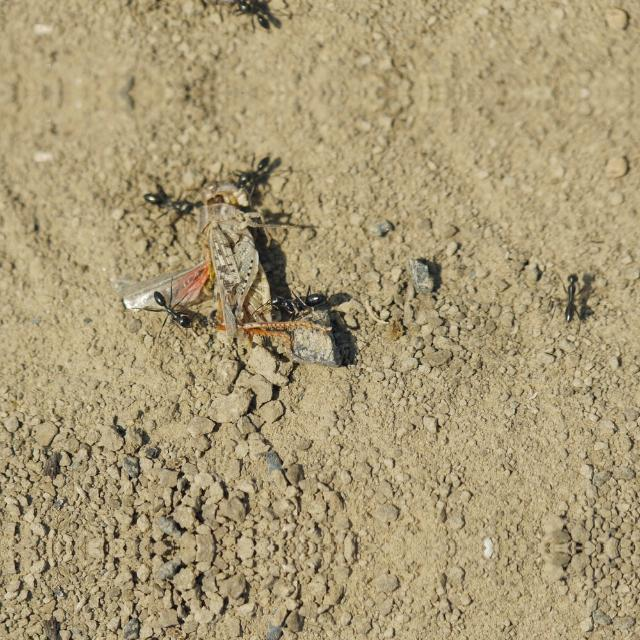Cataglyphis: (140, 282, 207, 336), (260, 282, 338, 324), (132, 182, 204, 222), (226, 147, 288, 191), (548, 266, 592, 326), (226, 0, 288, 36)
